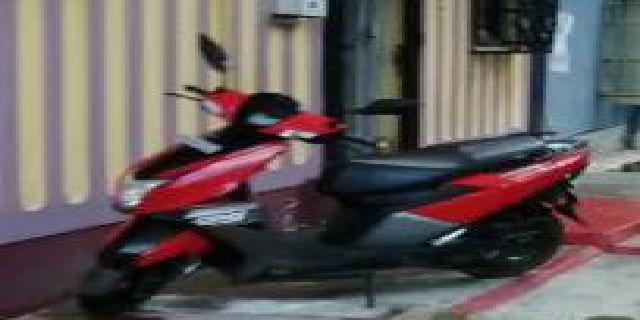Motorbike: (81, 27, 609, 320)
